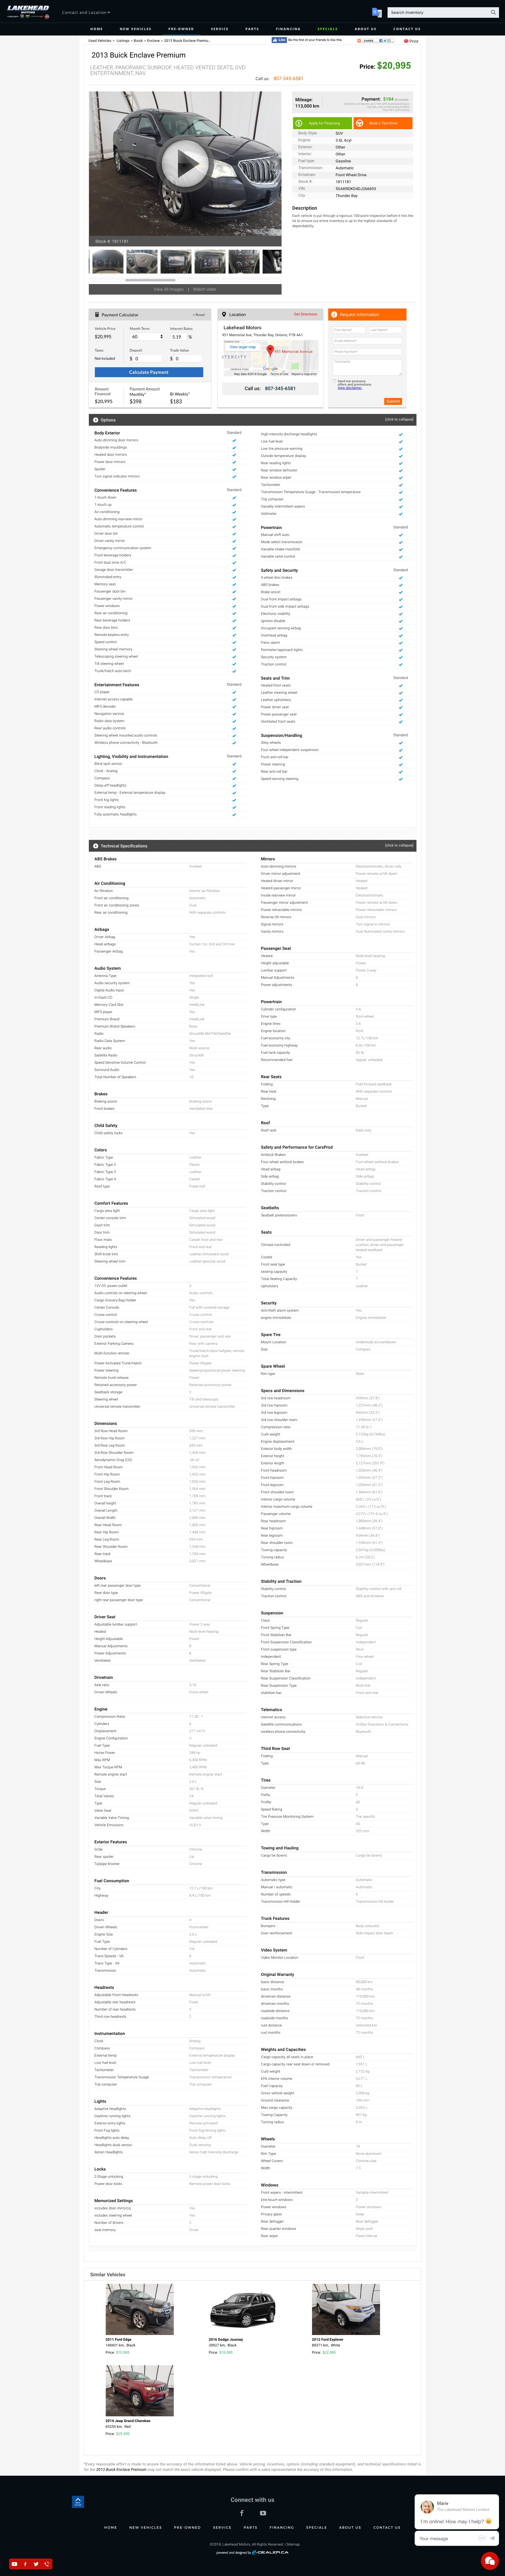car: (272, 161, 279, 168)
